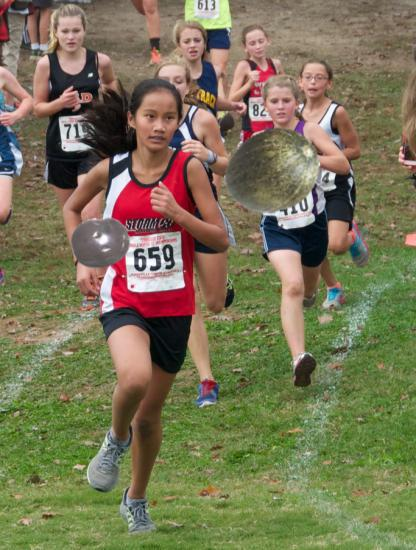Melon: (223, 119, 321, 217)
Passion: (71, 212, 132, 273)
